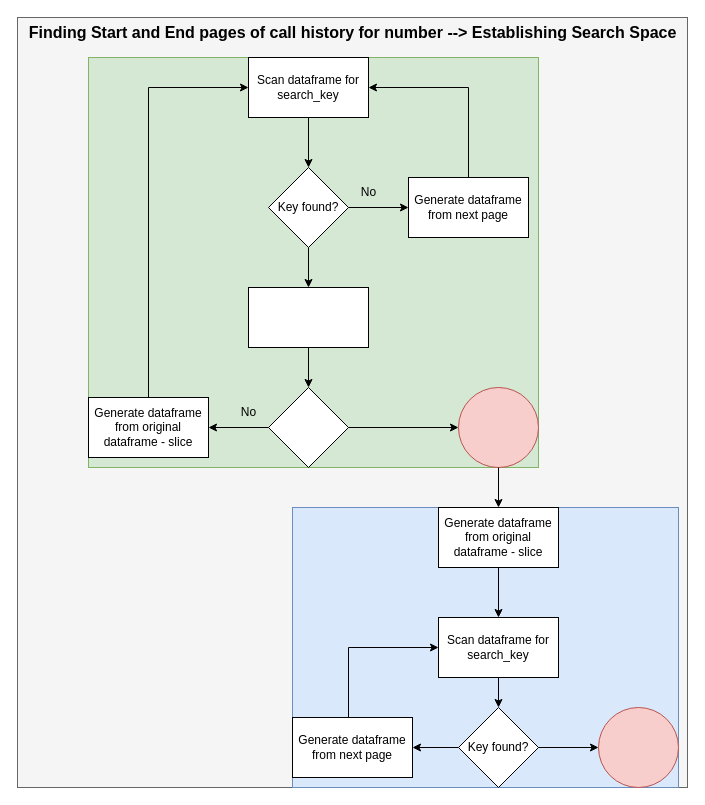
This 705x805 diagram has some shape labels left out. Here are the shapes that lost their labels. From the top down, the centre of each, then its label:
At [308,317]: "Slice around dataframe".
At [308,427]: "contains search_num ?".
At [498,427]: "Found start page, next find end page".
At [638,747]: "Found end page".
